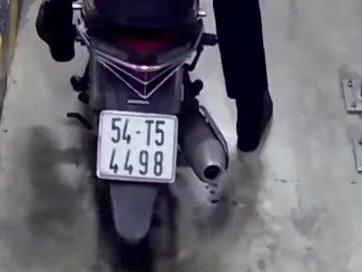num_plate: (95, 109, 181, 187)
